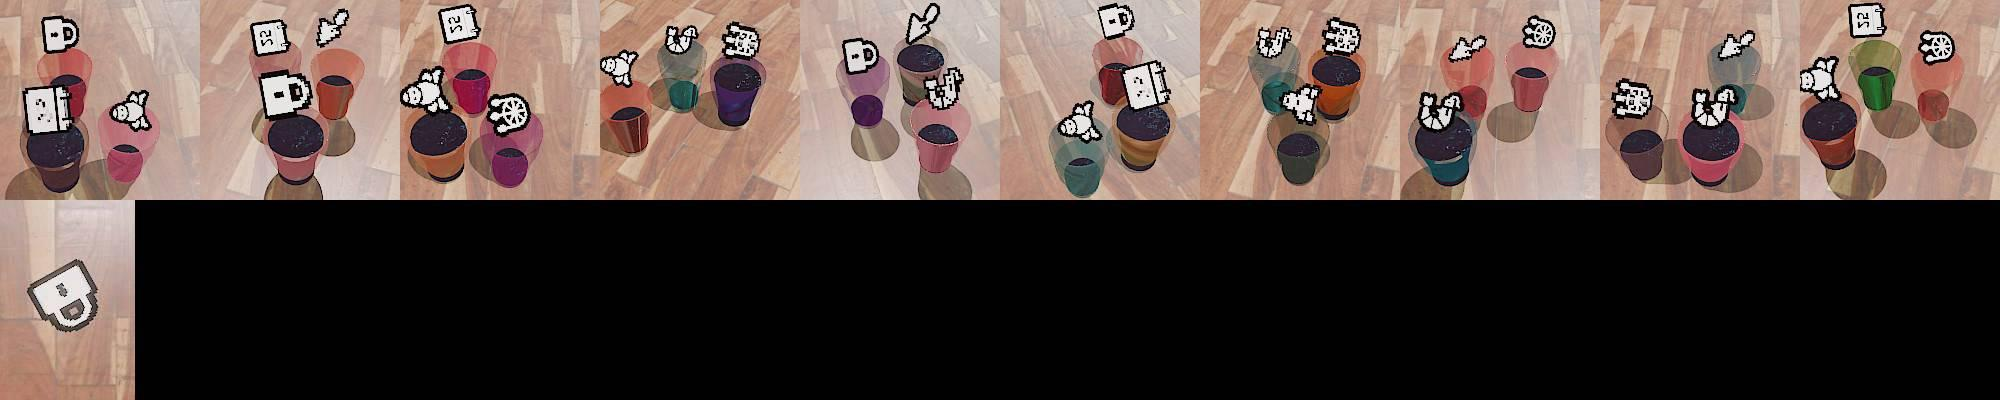icon: (24, 257, 101, 334), (257, 69, 317, 120), (22, 83, 73, 136), (1123, 59, 1172, 113), (401, 65, 453, 115), (485, 91, 532, 136), (1799, 55, 1842, 102), (1417, 89, 1462, 132), (1690, 85, 1736, 127), (1058, 98, 1102, 141), (923, 66, 965, 111), (437, 4, 480, 47), (108, 89, 152, 131), (1610, 77, 1654, 119), (1281, 81, 1321, 124), (1320, 16, 1362, 56), (250, 19, 292, 59), (599, 48, 639, 88), (1096, 2, 1136, 42), (905, 2, 941, 46), (41, 16, 80, 55), (721, 21, 761, 59), (315, 7, 350, 49), (842, 37, 879, 75), (1848, 3, 1886, 39), (1521, 15, 1557, 50), (1918, 30, 1955, 64), (1255, 25, 1291, 59), (1716, 30, 1755, 61), (663, 22, 699, 55), (1447, 34, 1487, 63)
